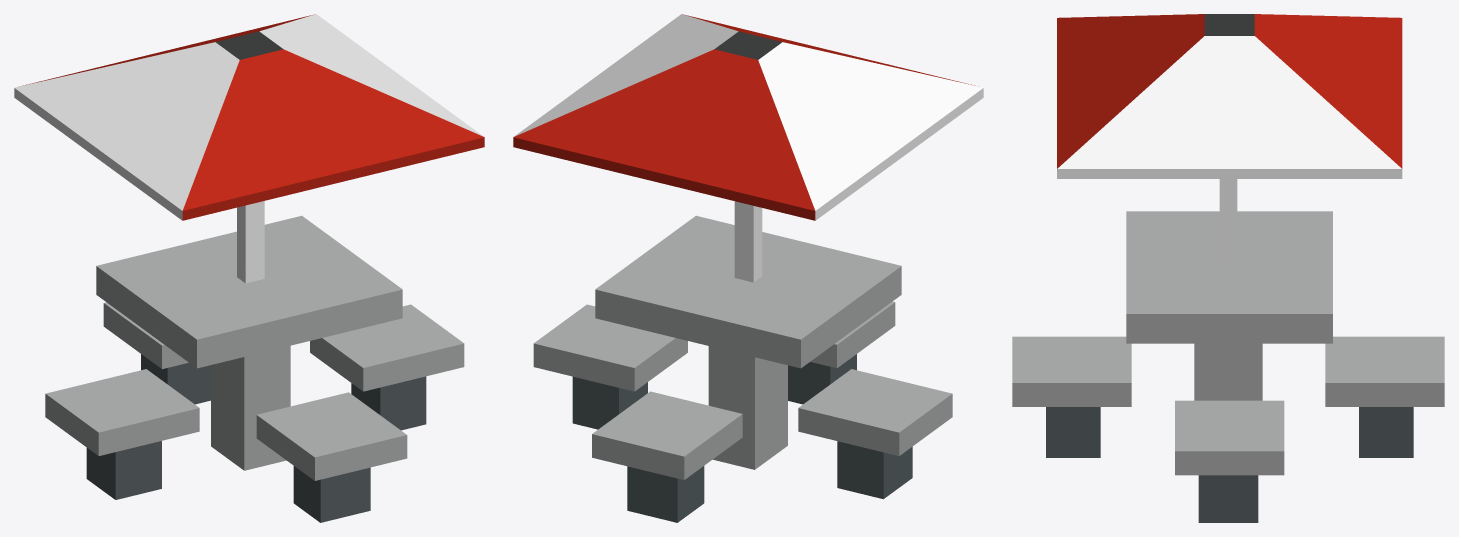
Rendered from table3.FBX.
3 views of the same model, side by side, from view 1: azimuth 30°, elevation 25°; view 2: azimuth 150°, elevation 25°; view 3: azimuth 270°, elevation 25° (orthographic). The views are drawn at different scales.
Visible parts, largest first — view 1: table3; view 2: table3; view 3: table3.
Boxes of the visible parts, x1,y1,x2,y2 form: table3: (14,14,484,522); table3: (513,14,983,522); table3: (1012,14,1444,522).
Size of the model in its own units: 4.84 by 5.15 by 4.84.
